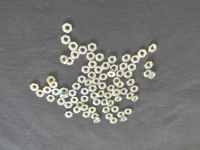nut: (62, 22, 73, 33), (61, 34, 71, 45), (68, 41, 79, 51), (87, 42, 98, 52), (107, 55, 118, 64), (59, 55, 69, 64), (138, 48, 147, 58), (122, 53, 131, 63), (101, 61, 111, 70), (144, 60, 153, 70), (30, 83, 39, 92), (47, 76, 56, 85), (46, 94, 55, 103), (79, 46, 88, 55), (71, 50, 80, 59), (82, 65, 91, 74), (87, 52, 96, 61), (88, 71, 97, 80), (107, 70, 116, 79), (120, 62, 129, 71), (132, 55, 141, 64), (97, 52, 105, 62), (149, 43, 157, 53), (52, 88, 60, 97), (78, 75, 87, 83), (89, 60, 98, 68), (81, 88, 90, 96), (125, 70, 133, 79), (117, 69, 125, 78), (127, 78, 135, 87), (113, 77, 122, 85), (49, 82, 59, 89), (72, 83, 82, 90), (43, 86, 51, 94), (67, 57, 75, 65), (69, 89, 77, 97), (95, 66, 103, 74), (89, 85, 97, 93), (81, 95, 89, 103), (93, 78, 101, 86), (100, 73, 108, 81), (99, 82, 107, 90), (129, 63, 137, 71), (125, 108, 133, 116), (144, 69, 152, 77), (113, 89, 121, 97), (131, 85, 139, 93), (83, 111, 91, 119), (77, 102, 85, 110), (89, 106, 97, 114), (90, 92, 98, 100), (127, 92, 135, 100), (36, 90, 45, 97), (57, 99, 66, 106), (60, 87, 69, 94), (115, 82, 124, 89), (101, 98, 108, 107), (65, 112, 73, 119), (65, 102, 73, 109), (71, 97, 79, 104), (86, 79, 93, 87), (107, 85, 115, 92), (94, 98, 101, 106), (74, 107, 82, 114), (118, 111, 125, 119), (105, 92, 113, 99), (112, 106, 120, 113), (132, 95, 139, 103), (150, 71, 156, 80), (106, 113, 113, 120), (103, 107, 110, 114), (82, 104, 89, 111), (98, 90, 105, 97), (108, 100, 115, 107), (110, 118, 117, 125), (111, 65, 119, 71), (122, 88, 128, 96), (60, 94, 69, 99), (121, 117, 128, 123), (94, 118, 101, 124), (116, 96, 123, 102), (91, 114, 99, 119)
